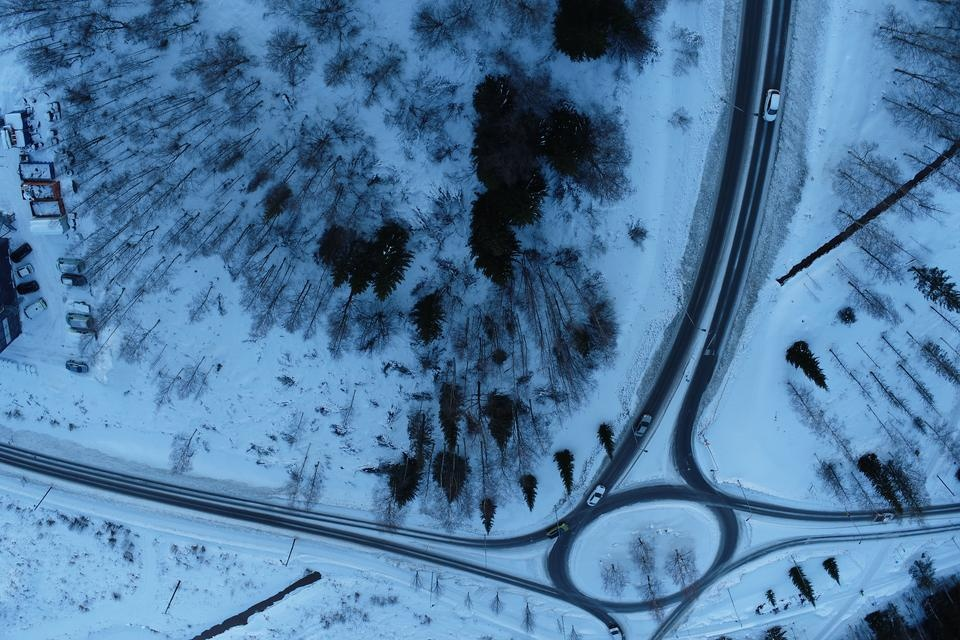roundabout: (507, 460, 776, 640)
